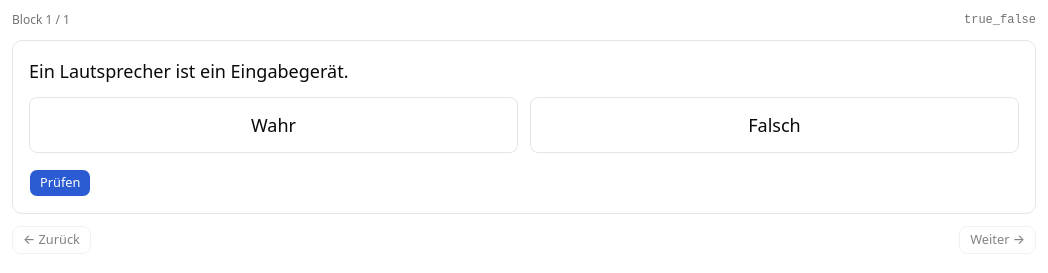
Test: LivePreview › Zurücksetzen bringt den Prüfen-Knopf zurück
Click the button "Prüfen": (60, 183) x1=29 y1=169 x2=92 y2=197
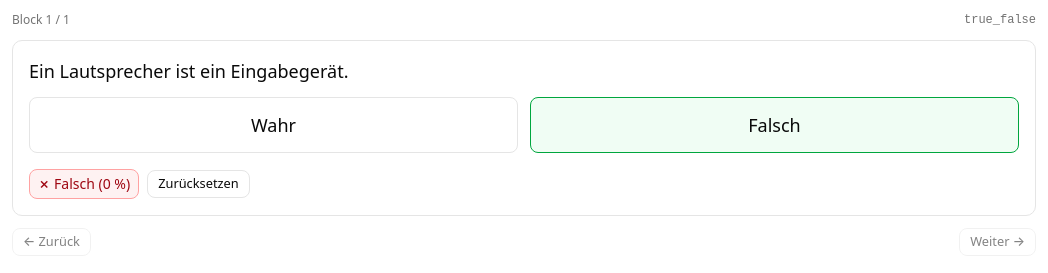
Click the button "Zurücksetzen": (198, 184) x1=147 y1=170 x2=250 y2=198
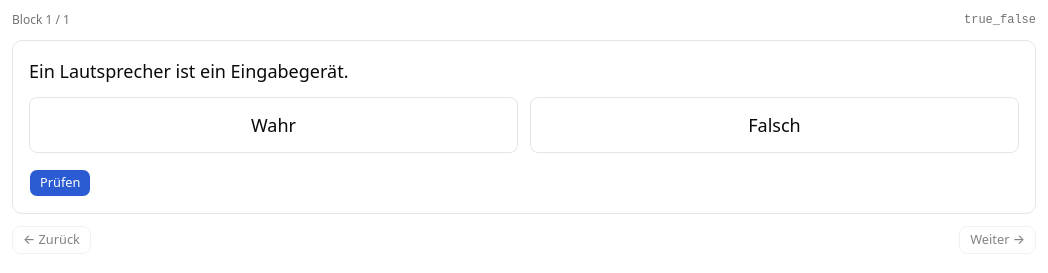
Expected: the button "Prüfen" is shown, x1=29 y1=169 x2=92 y2=197
